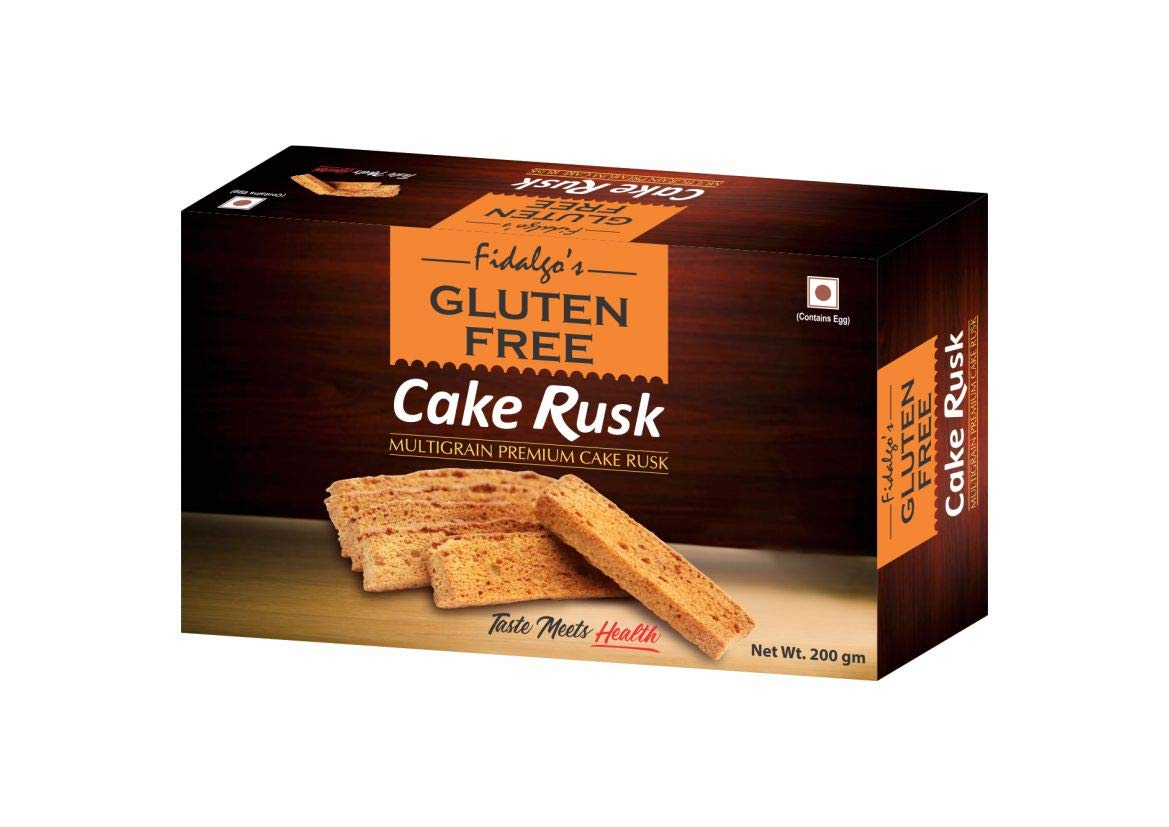nonveg_red: (803, 272, 841, 312)
